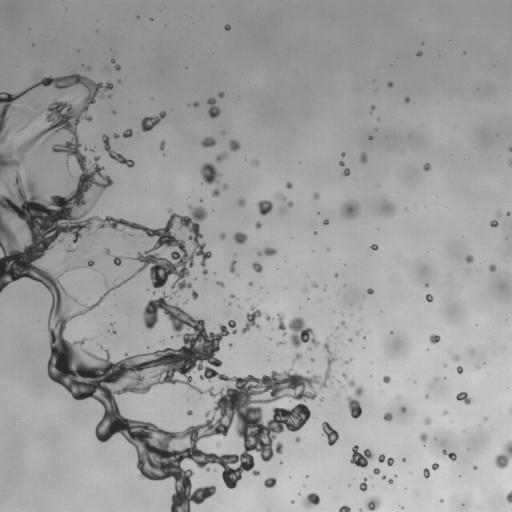droplet: (242, 305, 272, 333), (350, 445, 374, 467), (322, 422, 338, 445), (341, 200, 359, 219), (207, 98, 220, 118), (302, 493, 319, 508), (257, 200, 273, 215), (365, 496, 381, 511), (456, 392, 473, 404), (382, 201, 394, 215), (233, 232, 247, 244), (200, 137, 215, 147), (229, 139, 240, 151), (264, 477, 276, 488), (215, 152, 227, 162), (227, 320, 236, 333), (359, 477, 367, 491), (252, 262, 262, 273), (429, 334, 440, 343), (419, 432, 427, 444), (383, 412, 393, 421), (360, 152, 367, 163), (123, 129, 132, 137), (237, 198, 245, 207), (465, 254, 473, 263), (85, 260, 94, 268), (338, 505, 350, 511), (191, 290, 198, 299), (423, 163, 430, 171), (342, 168, 350, 175), (488, 264, 496, 271), (382, 376, 390, 383), (423, 468, 429, 477), (276, 340, 286, 345), (104, 248, 111, 255), (453, 354, 460, 361), (370, 244, 378, 250), (216, 281, 224, 287), (313, 192, 319, 199), (255, 221, 261, 228), (219, 232, 225, 239), (426, 294, 432, 301), (424, 418, 431, 424), (432, 462, 438, 469), (373, 468, 380, 474), (67, 247, 75, 252), (224, 24, 230, 30), (252, 160, 258, 166), (286, 182, 292, 188), (367, 288, 373, 294), (341, 321, 346, 328), (457, 366, 462, 373), (160, 141, 164, 149), (388, 81, 393, 87), (218, 92, 224, 97), (401, 406, 406, 412), (417, 51, 422, 56), (404, 97, 409, 102), (113, 133, 118, 138), (339, 161, 344, 166), (222, 184, 227, 189), (323, 219, 328, 224), (312, 282, 317, 287), (303, 287, 308, 292), (187, 410, 192, 415), (442, 410, 447, 415), (388, 478, 393, 483), (193, 102, 198, 106), (248, 281, 252, 286), (356, 329, 360, 334), (295, 437, 299, 442), (341, 152, 345, 156), (506, 211, 510, 215), (230, 294, 234, 298), (319, 397, 323, 401), (216, 442, 220, 446), (382, 475, 386, 479), (425, 283, 428, 287), (112, 330, 116, 333), (310, 358, 314, 361), (434, 377, 437, 381), (108, 95, 111, 98), (369, 136, 372, 139), (334, 273, 337, 276), (184, 300, 187, 303), (229, 343, 232, 346), (425, 395, 428, 398), (473, 466, 476, 469), (509, 147, 511, 151), (87, 67, 90, 69), (118, 80, 120, 83), (112, 111, 115, 113), (326, 248, 329, 250), (324, 287, 326, 290), (111, 322, 113, 325), (336, 326, 338, 329), (349, 338, 351, 341), (471, 350, 473, 353), (444, 364, 446, 367), (336, 393, 338, 396), (484, 417, 486, 420), (403, 458, 405, 461), (291, 500, 293, 503), (359, 508, 361, 511), (377, 118, 379, 120), (222, 131, 224, 133), (67, 169, 69, 171), (70, 174, 72, 176), (200, 199, 202, 201), (314, 231, 316, 233), (130, 234, 132, 236), (343, 284, 345, 286), (152, 292, 154, 294), (229, 302, 231, 304), (161, 341, 163, 343), (477, 366, 479, 368), (400, 506, 402, 508)
ligament: (0, 85, 332, 511), (337, 371, 363, 418), (102, 134, 134, 167), (200, 163, 221, 196), (141, 111, 166, 131), (494, 440, 511, 468), (378, 454, 394, 465), (279, 201, 293, 213), (490, 212, 501, 227), (258, 247, 276, 256), (442, 449, 456, 460), (111, 59, 120, 70), (275, 192, 286, 201), (229, 260, 236, 274), (292, 353, 301, 363), (506, 491, 511, 503), (342, 359, 351, 364), (370, 105, 375, 113), (509, 158, 511, 166), (510, 409, 511, 412)
